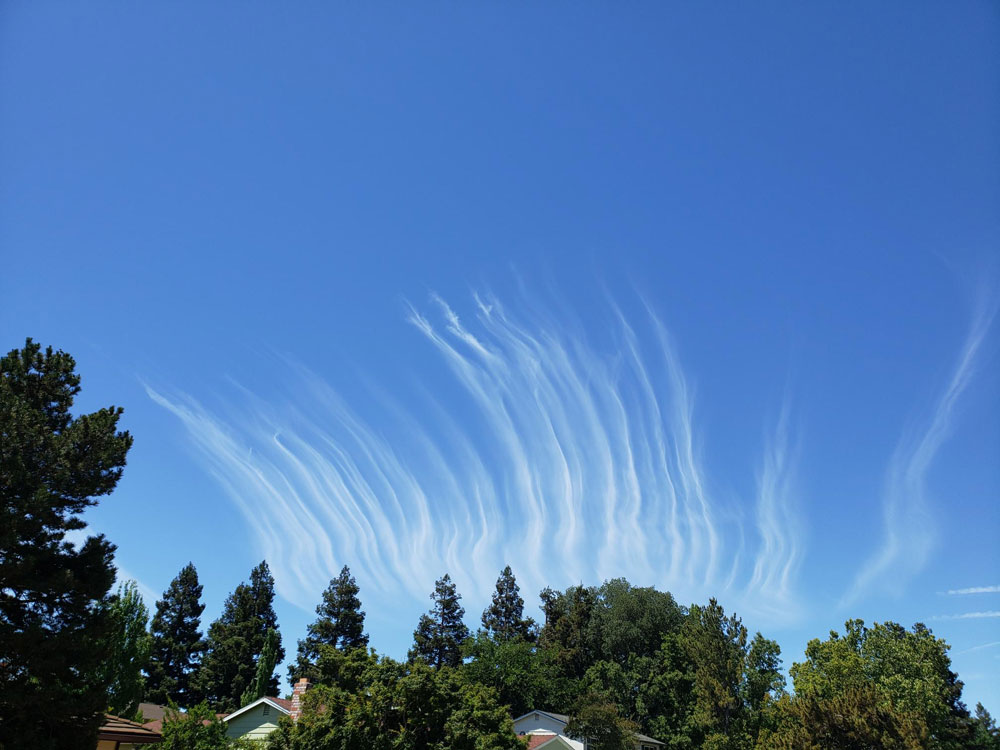Cirrus: (151, 242, 991, 611)
